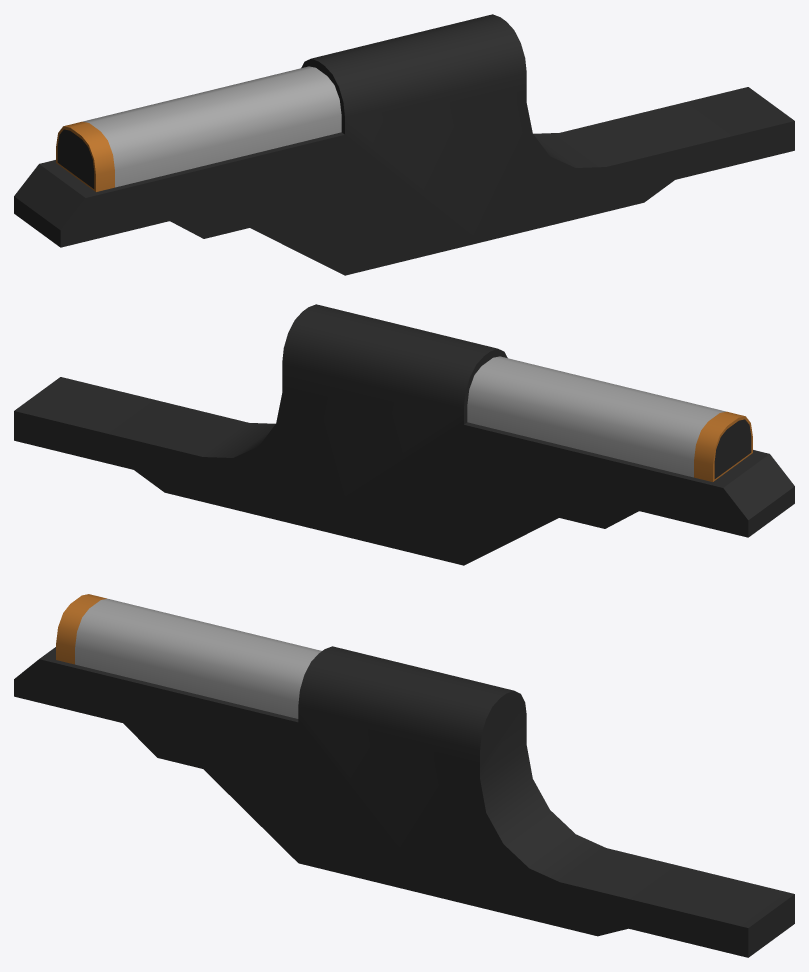
File: quaternius-modular-sci-fi-guns-body-ar-1.glb
3 views of the same model, one above another, from view 1: azimuth 30°, elevation 25°; view 2: azimuth 150°, elevation 25°; view 3: azimuth 330°, elevation 25° (orthographic).
Parts seen in each view (by area): view 1: Body_AR_1; view 2: Body_AR_1; view 3: Body_AR_1.
Part boxes in pixels (x1=…): Body_AR_1: x1=14, y1=14, x2=794, y2=275; Body_AR_1: x1=14, y1=304, x2=794, y2=565; Body_AR_1: x1=14, y1=594, x2=794, y2=957.
Size of the model in its own units: 1.24 by 0.3148 by 0.1365.
